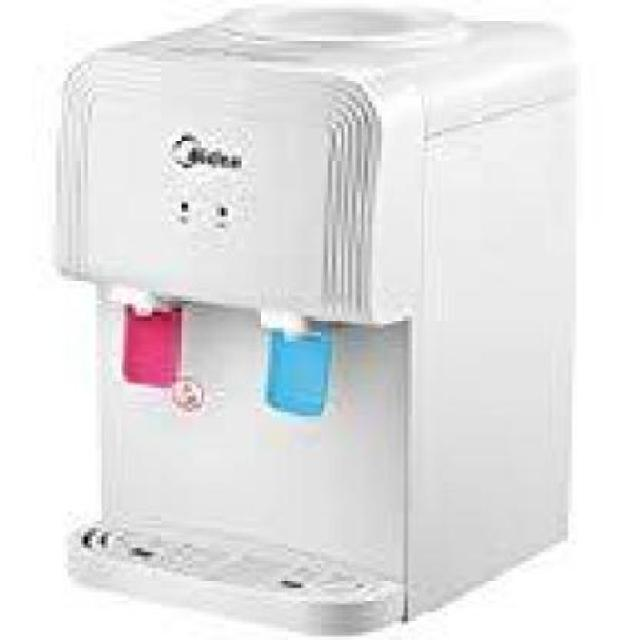cooler: (55, 0, 582, 636)
